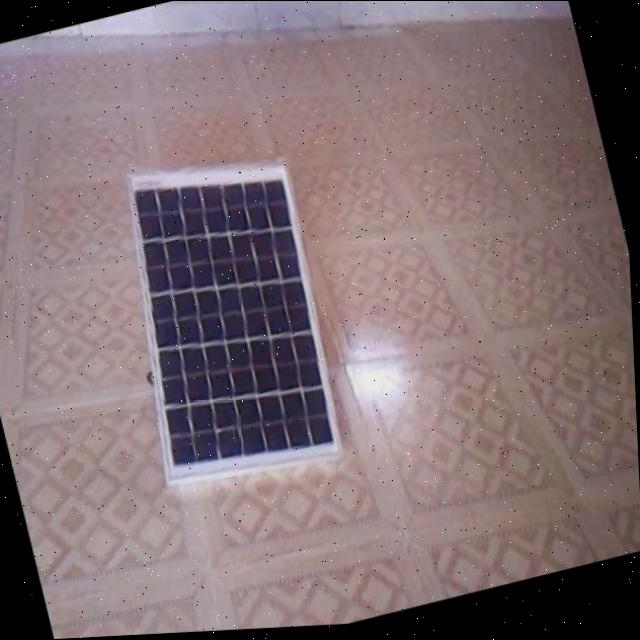Normal Solar Panel: (98, 142, 356, 498)
